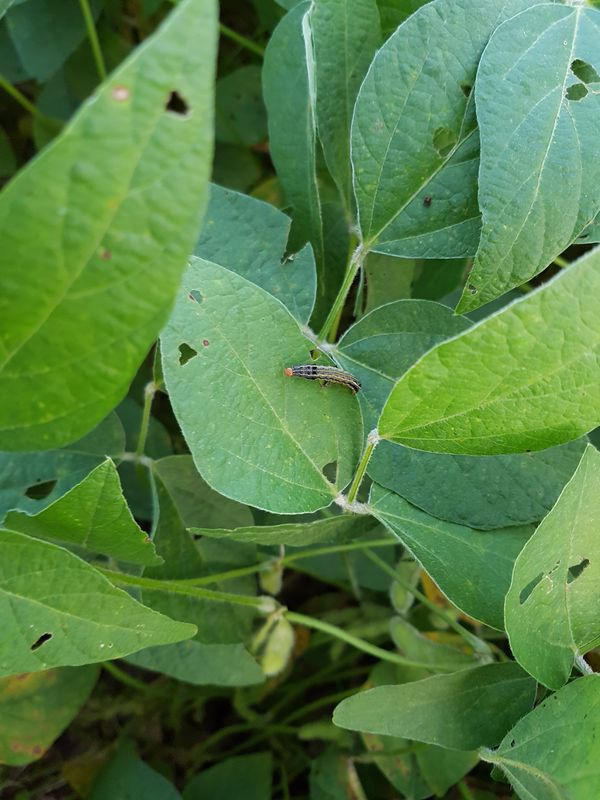Spodoptera_albula: (274, 351, 368, 411)
